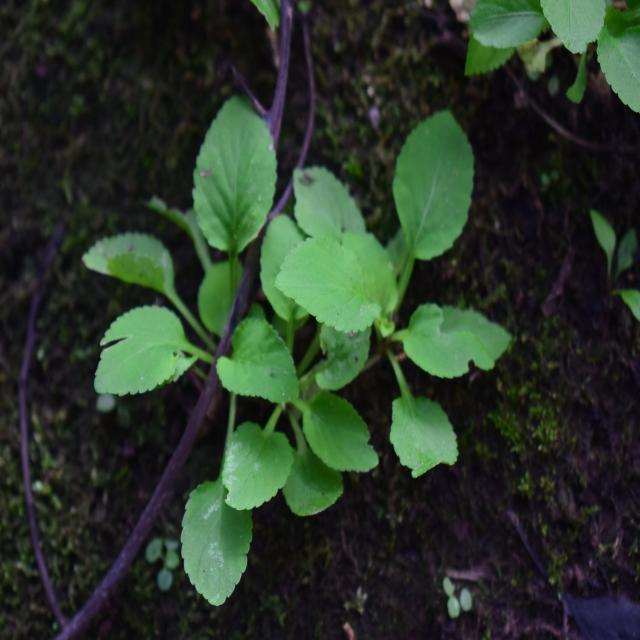Viola: (91, 106, 350, 579), (292, 90, 486, 519)
